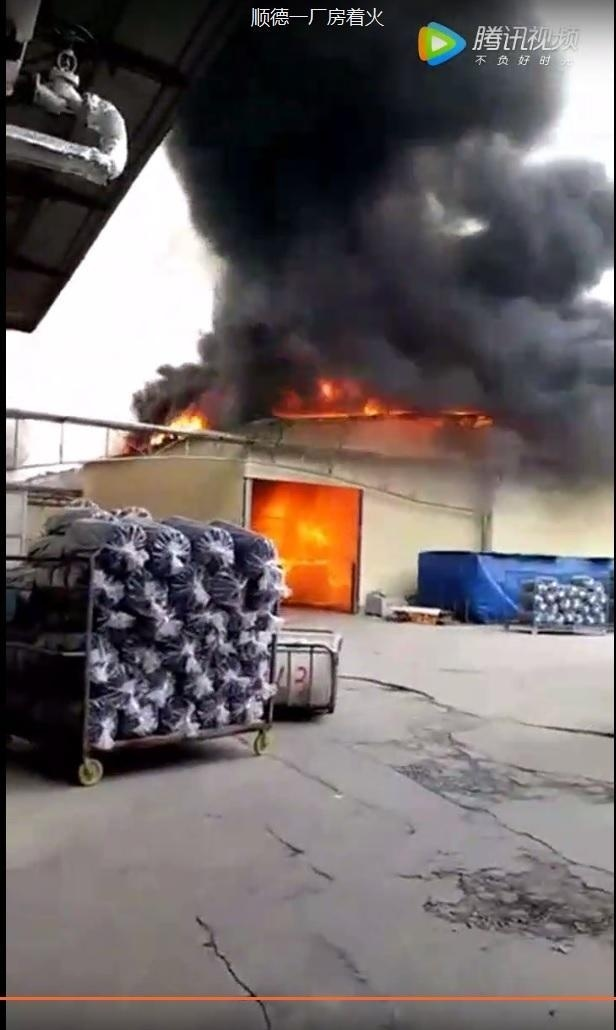fire: (252, 480, 353, 599), (142, 406, 208, 449)
